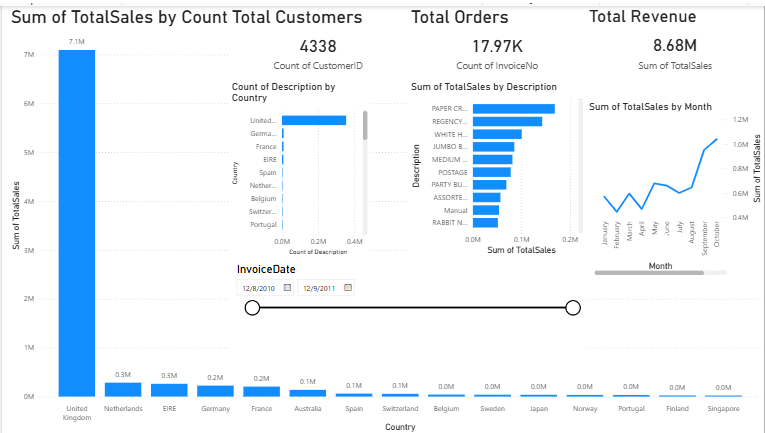

What the dashboard file says about the page in this screenshot:
{"tool":"powerbi","page":{"name":"Page 2","canvas":[1280,720],"ordinal":0},"visuals":[{"type":"clusteredColumnChart","fields":{"Category":["Online Retail.Country"],"Y":["Sum(Online Retail.TotalSales)"]},"box":[10.6,0,1269.4,720.1],"z":0},{"type":"card","title":"Total Revenue","fields":{"Values":["Sum(Online Retail.TotalSales)"]},"box":[980.7,0,299.3,116.2],"z":1000},{"type":"card","title":"Total Orders","fields":{"Values":["Count(Online Retail.InvoiceNo)"]},"box":[681.4,0,299.3,116.2],"z":2000},{"type":"card","title":"Total Customers ","fields":{"Values":["Count(Online Retail.CustomerID)"]},"box":[382.1,0,299.3,116.2],"z":3000},{"type":"slicer","fields":{"Values":["Online Retail.InvoiceDate"]},"box":[382.1,424.3,598.6,158.5],"z":4000},{"type":"clusteredBarChart","fields":{"Y":["CountNonNull(Online Retail.Description)"],"Category":["Online Retail.Country"]},"box":[382.1,125,237.7,299.3],"z":5000},{"type":"clusteredBarChart","fields":{"Y":["Sum(Online Retail.TotalSales)"],"Category":["Online Retail.Description"]},"box":[681.4,125,299.3,299.3],"z":6000},{"type":"lineChart","fields":{"Y2":["Sum(Online Retail.TotalSales)"],"Category":["Online Retail.InvoiceDate.Variation.Date Hierarchy.Month"]},"box":[980.7,158.5,299.3,299.3],"z":7000}]}

Visuals, with their boxes in screenshot pixels (x1, y1, x2, y2), scaled from the page's 1280x720 canvas onto the 765x433 screenshot:
clusteredColumnChart - Online Retail.Country x Sum(Online Retail.TotalSales): <region>6, 0, 764, 432</region>
"Total Revenue" card: <region>586, 0, 764, 70</region>
"Total Orders" card: <region>407, 0, 586, 70</region>
"Total Customers " card: <region>228, 0, 407, 70</region>
slicer - Online Retail.InvoiceDate: <region>228, 255, 586, 350</region>
clusteredBarChart - CountNonNull(Online Retail.Description) x Online Retail.Country: <region>228, 75, 370, 255</region>
clusteredBarChart - Sum(Online Retail.TotalSales) x Online Retail.Description: <region>407, 75, 586, 255</region>
lineChart - Sum(Online Retail.TotalSales) x Online Retail.InvoiceDate.Variation.Date Hierarchy.Month: <region>586, 95, 764, 275</region>
